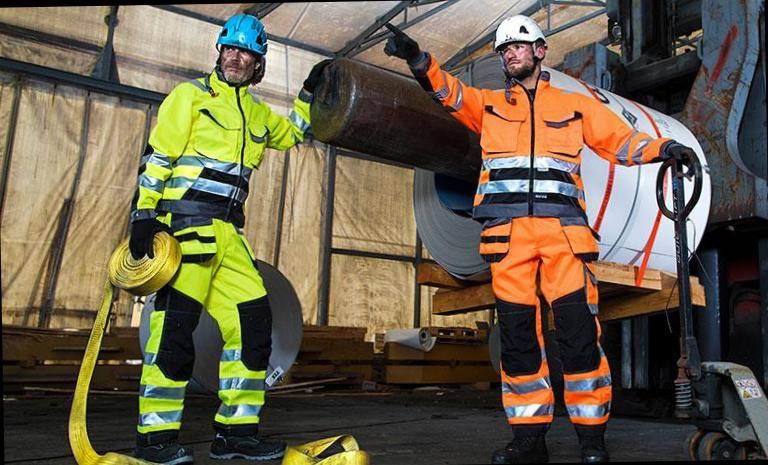Helmet: (205, 9, 274, 58), (482, 10, 547, 48)
Vest: (438, 65, 628, 239), (131, 67, 291, 256)
